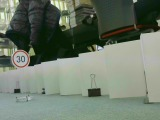speed_30: (10, 49, 30, 69)
